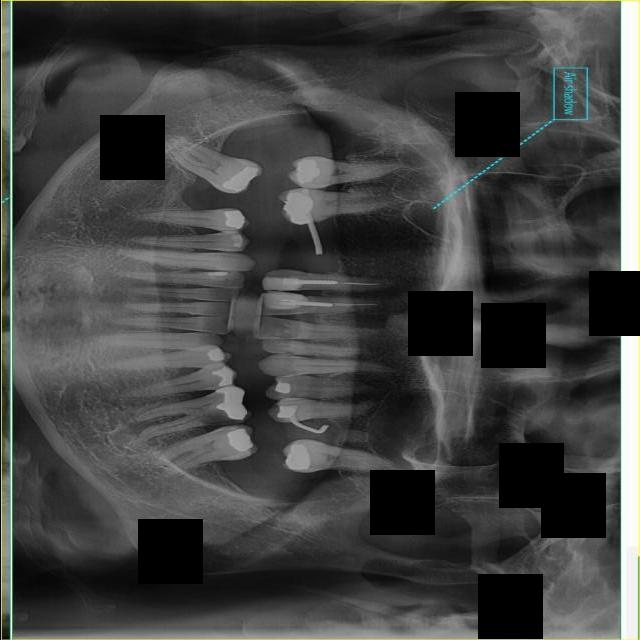71: (283, 278, 336, 288), (281, 299, 333, 309)
72: (335, 426, 375, 447)
74: (335, 303, 378, 307), (341, 281, 382, 285)
NucleOSS Implant: (221, 162, 262, 199), (280, 189, 315, 226), (213, 385, 248, 422), (282, 443, 314, 475), (290, 156, 321, 186), (210, 362, 237, 389), (227, 428, 253, 454), (223, 209, 245, 230), (205, 347, 225, 364), (273, 382, 291, 395), (276, 406, 295, 418)
Sterngold Implant: (197, 408, 245, 427), (265, 330, 298, 340), (272, 338, 295, 346), (279, 350, 299, 356)
Straumann Implant: (260, 289, 308, 310), (261, 275, 304, 293), (229, 231, 251, 250), (208, 271, 234, 280)
